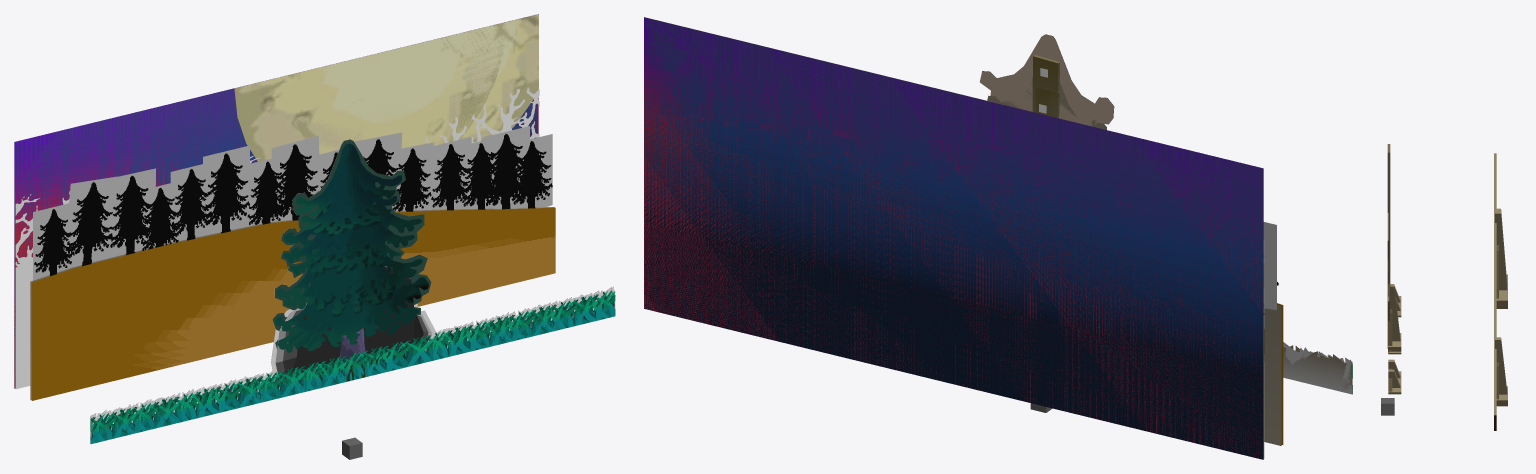
Rendered from stg_04_1.dae.
3 views of the same model, side by side, from view 1: azimuth 30°, elevation 25°; view 2: azimuth 150°, elevation 25°; view 3: azimuth 270°, elevation 25° (orthographic). The views are drawn at different scales.
Parts seen in each view (by area): view 1: polySurface963_q00142, pCylinder27_q00134, pPlane364_q772, pCylinder29_q00031, pCylinder27_q00143, polySurface995_q00074, pPlane450_q00144, polySurface995_q00086, pCylinder29_q00014, S_m_iwa1, polySurface1272_q00016, polySurface953_q773_part1 (+33 smaller); view 2: pPlane364_q772, pPlane450_q00144, polySurface1273_q00013, polySurface963_q00111, polySurface1271_q00093, polySurface1254_q00005, polySurface953_q00113; view 3: polySurface1250_q00108, polySurface1254_q00005, pCube24_q00099, pCube24_q00102, pCube24, pCube94, pCube22_q00097, pCube24_q00019, pCube23_q00098.
Part boxes in pixels (bbox=[...]): polySurface963_q00142: bbox=[31, 207, 555, 400]; pCylinder27_q00134: bbox=[234, 24, 506, 161]; pPlane364_q772: bbox=[14, 14, 538, 388]; pCylinder29_q00031: bbox=[283, 167, 421, 352]; pCylinder27_q00143: bbox=[295, 14, 538, 150]; polySurface995_q00074: bbox=[91, 290, 614, 443]; pPlane450_q00144: bbox=[14, 92, 538, 388]; polySurface995_q00086: bbox=[90, 291, 615, 443]; pCylinder29_q00014: bbox=[275, 143, 428, 349]; S_m_iwa1: bbox=[275, 266, 432, 382]; polySurface1272_q00016: bbox=[272, 139, 431, 348]; polySurface953_q773_part1: bbox=[15, 87, 539, 290]; pPlane364_q772: bbox=[644, 17, 1263, 459]; pPlane450_q00144: bbox=[644, 17, 1263, 459]; polySurface1273_q00013: bbox=[980, 34, 1113, 126]; polySurface963_q00111: bbox=[1263, 304, 1281, 445]; polySurface1271_q00093: bbox=[1283, 345, 1352, 392]; polySurface1254_q00005: bbox=[1032, 55, 1059, 117]; polySurface953_q00113: bbox=[1263, 222, 1276, 309]; polySurface1250_q00108: bbox=[1494, 153, 1496, 430]; polySurface1254_q00005: bbox=[1387, 144, 1390, 348]; pCube24_q00099: bbox=[1495, 208, 1507, 290]; pCube24_q00102: bbox=[1495, 337, 1507, 394]; pCube24: bbox=[1390, 284, 1400, 341]; pCube94: bbox=[1381, 398, 1394, 415]; pCube22_q00097: bbox=[1496, 274, 1507, 308]; pCube24_q00019: bbox=[1390, 284, 1399, 341]; pCube23_q00098: bbox=[1496, 245, 1498, 298].
Bounding box in the file's own units: 40.13 × 23.5 × 10.5.
